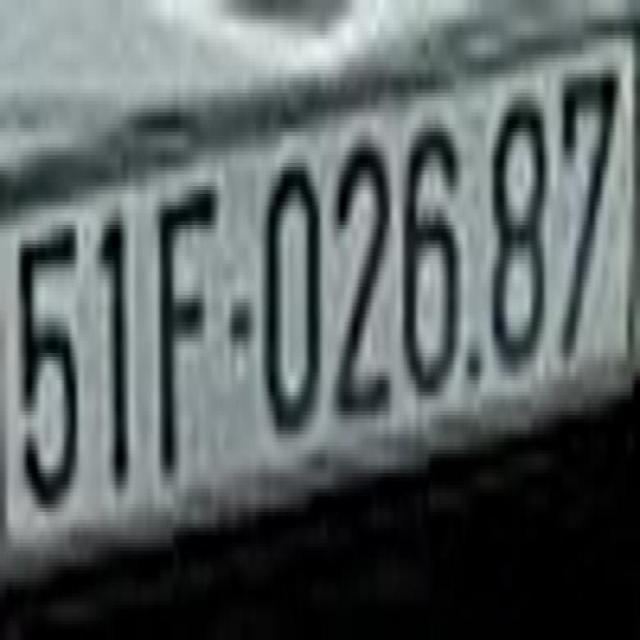0: (261, 144, 320, 442)
1: (90, 202, 136, 496)
2: (330, 116, 394, 419)
5: (16, 213, 79, 512)
6: (399, 104, 462, 403)
7: (557, 42, 624, 376)
8: (486, 85, 546, 372)
F: (152, 178, 220, 474)
